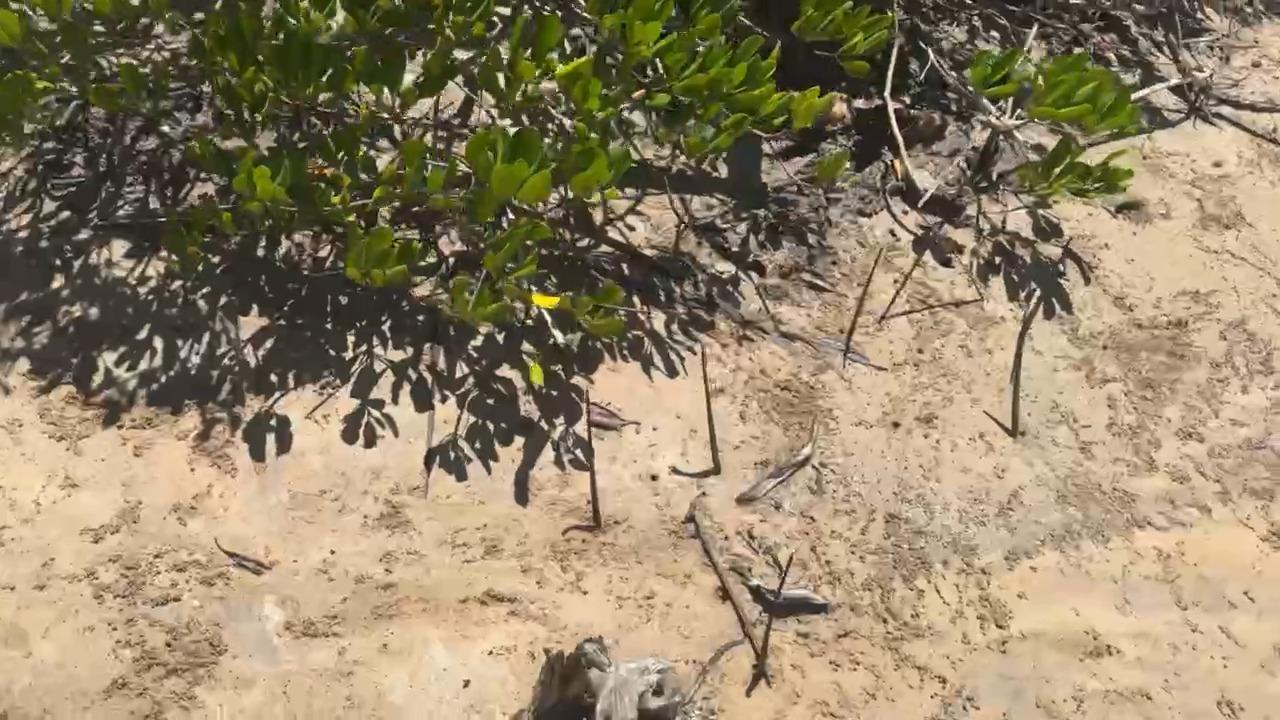Tree: (912, 204, 987, 301), (754, 552, 796, 674), (844, 247, 883, 353), (698, 343, 723, 474), (583, 388, 603, 530), (1010, 301, 1026, 438)
